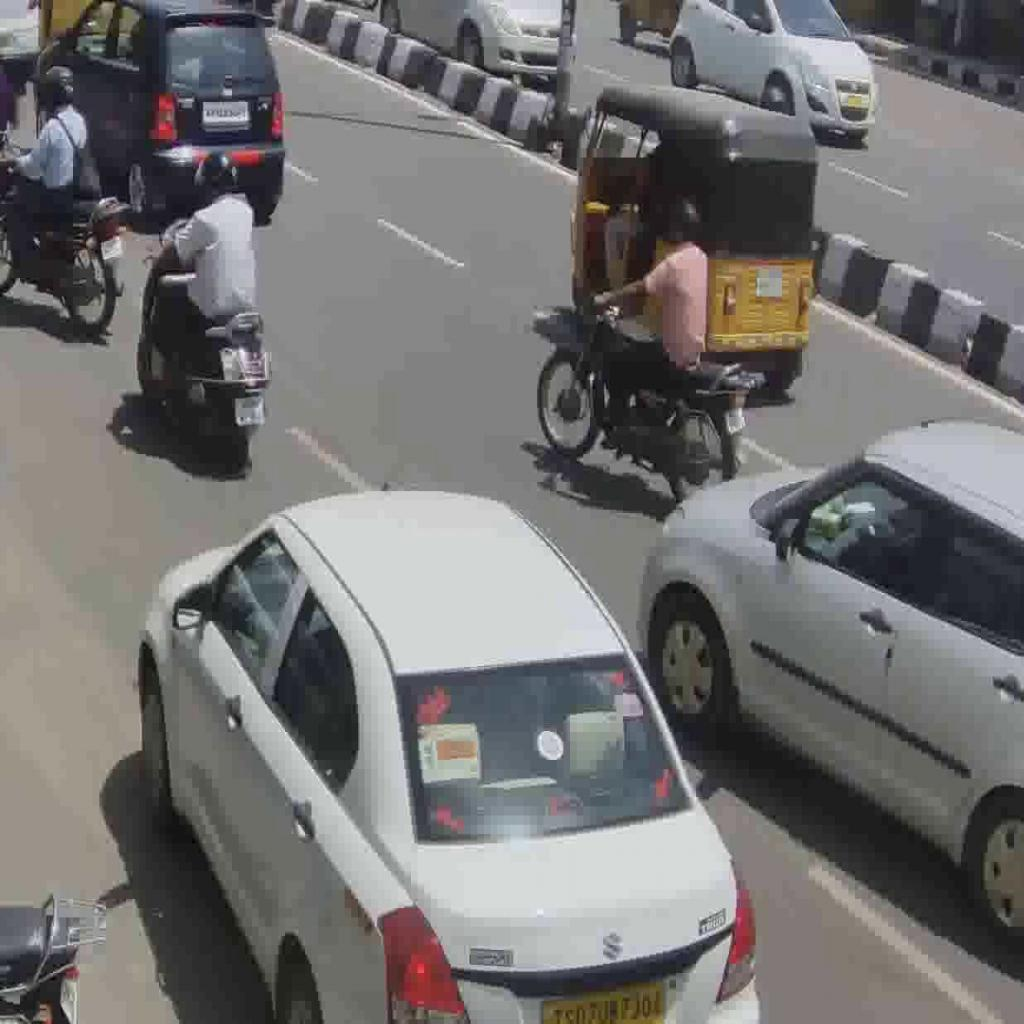helmet: (536, 288, 766, 504), (136, 215, 272, 469), (1, 137, 128, 337)
